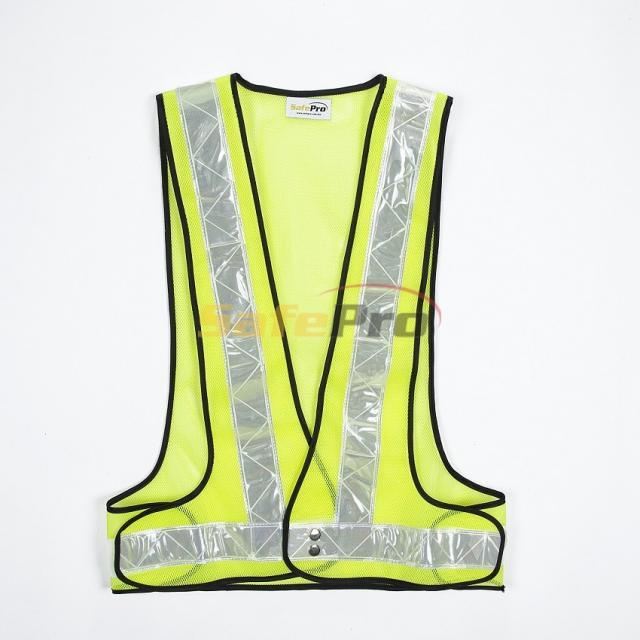reflective_jacket: (60, 56, 551, 609)
